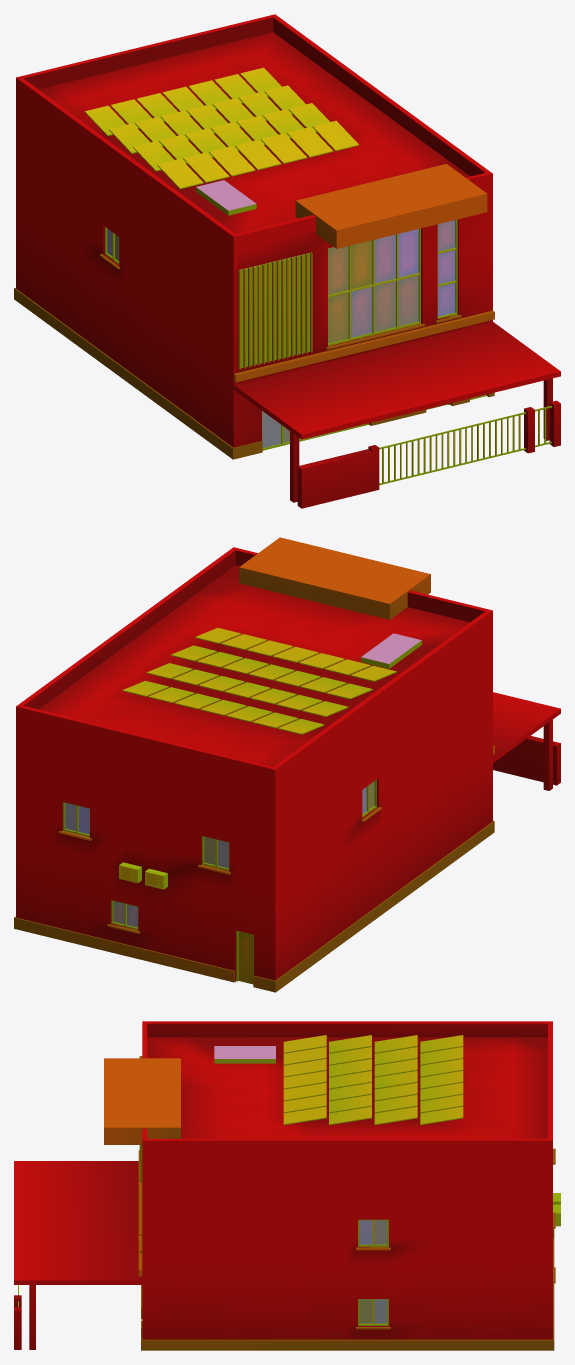
The model's file is superlink.glb.
3 renders of one model, top to bottom at view 1: azimuth 30°, elevation 25°; view 2: azimuth 150°, elevation 25°; view 3: azimuth 270°, elevation 25°, orthographic. The views are drawn at different scales.
Parts seen in each view (by area): view 1: superlink__modern__LOD0; view 2: superlink__modern__LOD0; view 3: superlink__modern__LOD0.
Boxes of the visible parts, x1,y1,x2,y2 form: superlink__modern__LOD0: [14, 14, 560, 508]; superlink__modern__LOD0: [14, 537, 560, 992]; superlink__modern__LOD0: [14, 1021, 560, 1350].
Size of what is drawn, in the model's own units: 11.2 by 9.05 by 21.31.
